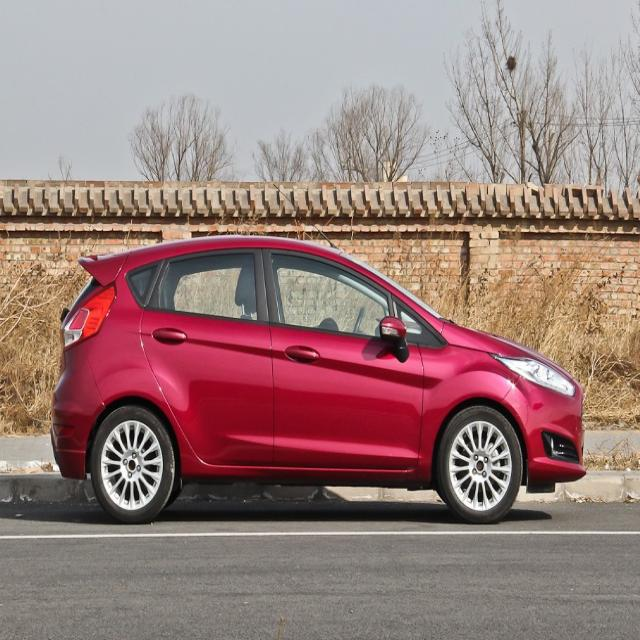back_right_side_light: (62, 279, 120, 351)
door: (141, 242, 269, 474)
front_bumper: (502, 373, 588, 496)
front_right_side_door: (261, 238, 426, 474)
front_right_side_light: (487, 348, 578, 398)
front_right_side_mirror: (379, 314, 409, 359)
rear_bumper: (47, 372, 105, 483)
wheel: (437, 404, 522, 523), (94, 405, 173, 523)
